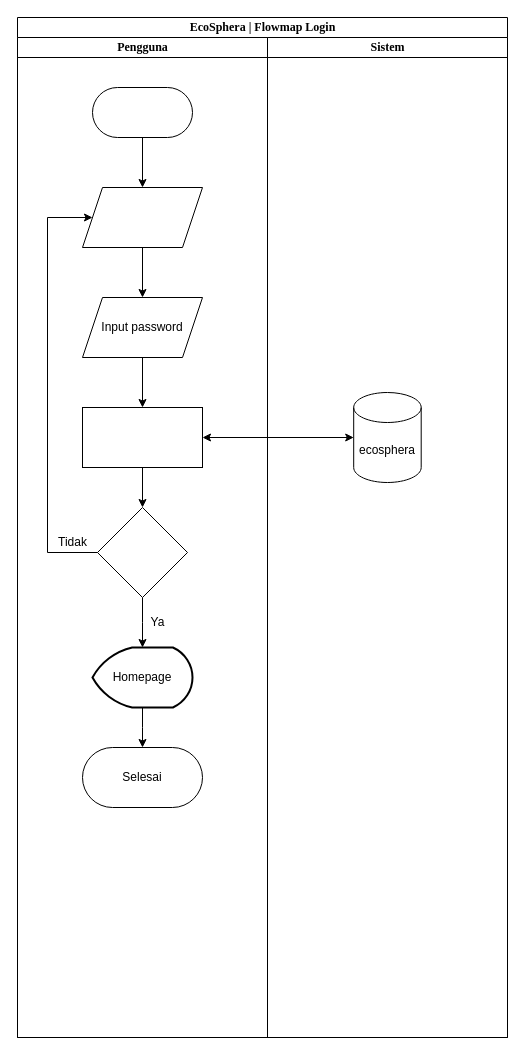
The diagram is 525 pixels wide and 1055 high, and some of its shapes have lost their labels. Here are the shapes that lost their labels. From the top down, the centre of each, then its label:
At pixel 142 112: "Mulai".
At pixel 142 217: "Input Username".
At pixel 142 437: "verifikasi akun".
At pixel 142 552: "akun terdaftar".
